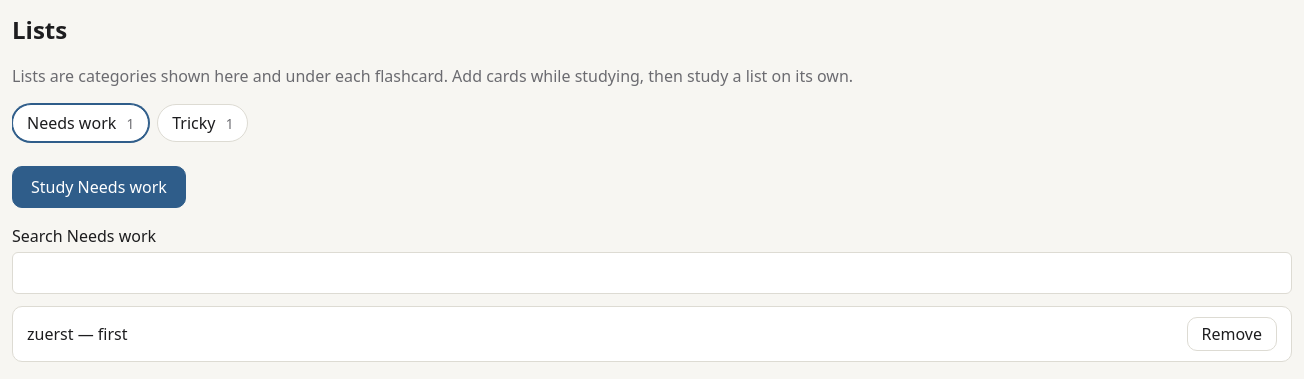
Scenario: ListsPage › shows each list with its flashcard count, direct and inherited members, and a search
The width and height of the screenshot is (1304, 379).
Expected: the text "zuerst — first" is shown, [27,322,128,346]
Expected: the button with aria-label "Remove zuerst — first from Needs work" is shown, [1186,317,1277,351]
Click the button "Tricky 1". click: (203, 123)
box: [157,104,248,142]
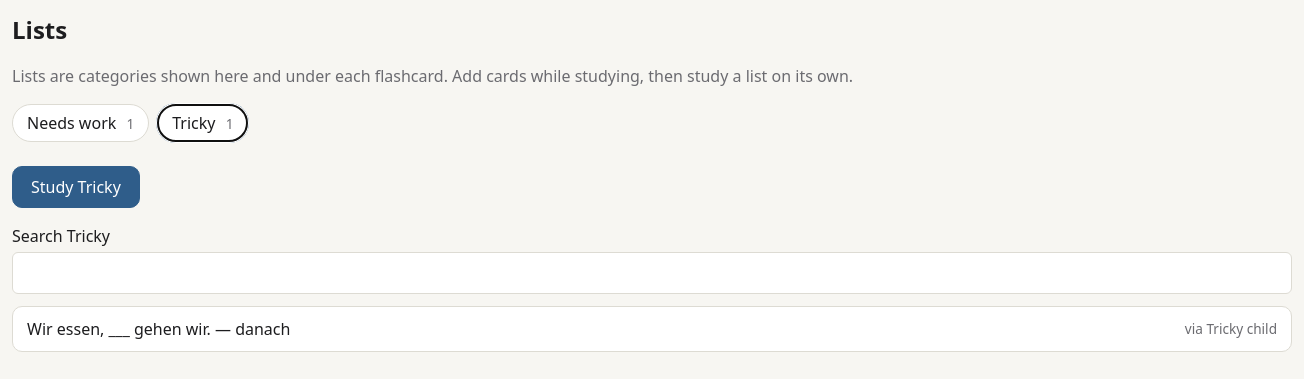
Now the text "Wir essen, ___ gehen wir. — danach" is shown, box [27,317,290,341]
Now the text "via Tricky child" is shown, box [1185,319,1277,339]
Now the button "Remove" is gone
Type "zzz" into the search field labelled "Search Tricky". click: (652, 273)
box: [12,252,1292,294]
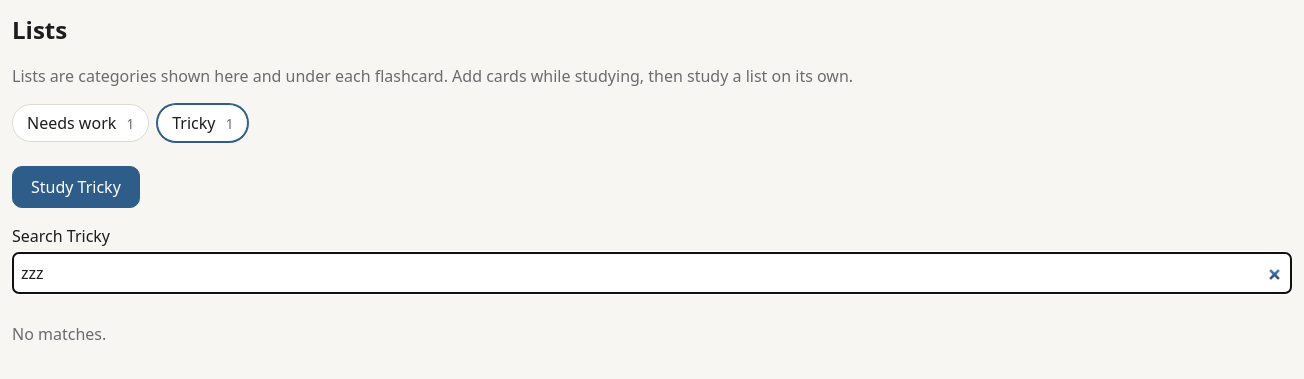
Now the text "No matches." is shown, box [12,323,106,345]
